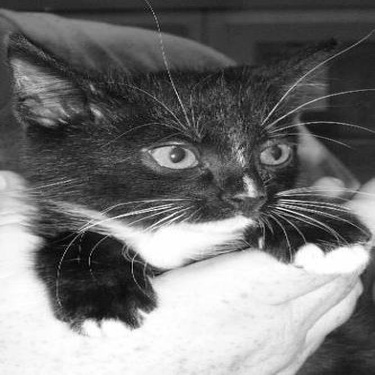cat: (1, 2, 373, 341)
